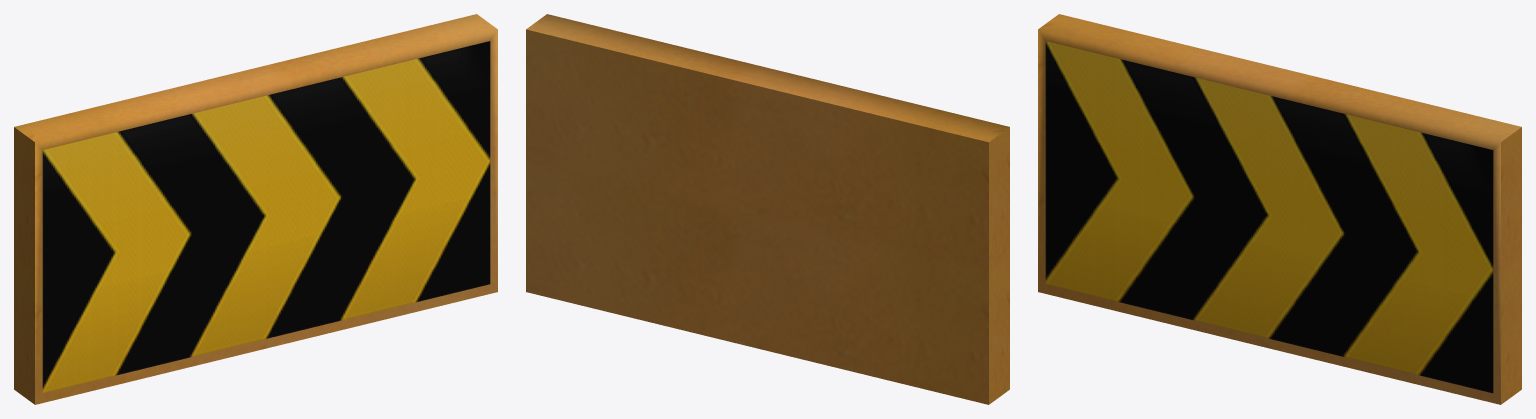
Rendered from Arrow.FBX.
The picture shows the model from 3 angles, left to right: view 1: azimuth 30°, elevation 25°; view 2: azimuth 150°, elevation 25°; view 3: azimuth 330°, elevation 25°; orthographic projection.
Visible parts, largest first — view 1: Arrow; view 2: Arrow; view 3: Arrow.
Boxes of the visible parts, x1=… form: Arrow: x1=14, y1=14, x2=497, y2=404; Arrow: x1=526, y1=14, x2=1009, y2=404; Arrow: x1=1038, y1=14, x2=1521, y2=404.
Size of the model in its own units: 9.34 by 5.07 by 0.7372.
